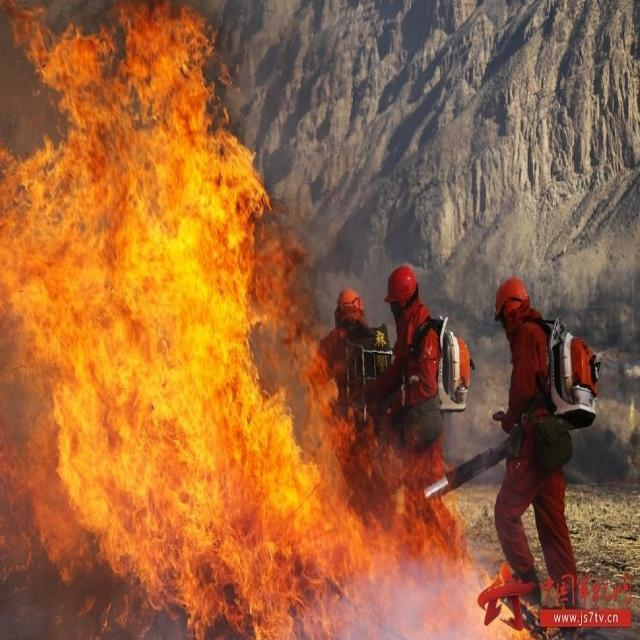Fire: (1, 1, 473, 639)
Smoke: (298, 561, 480, 640)
